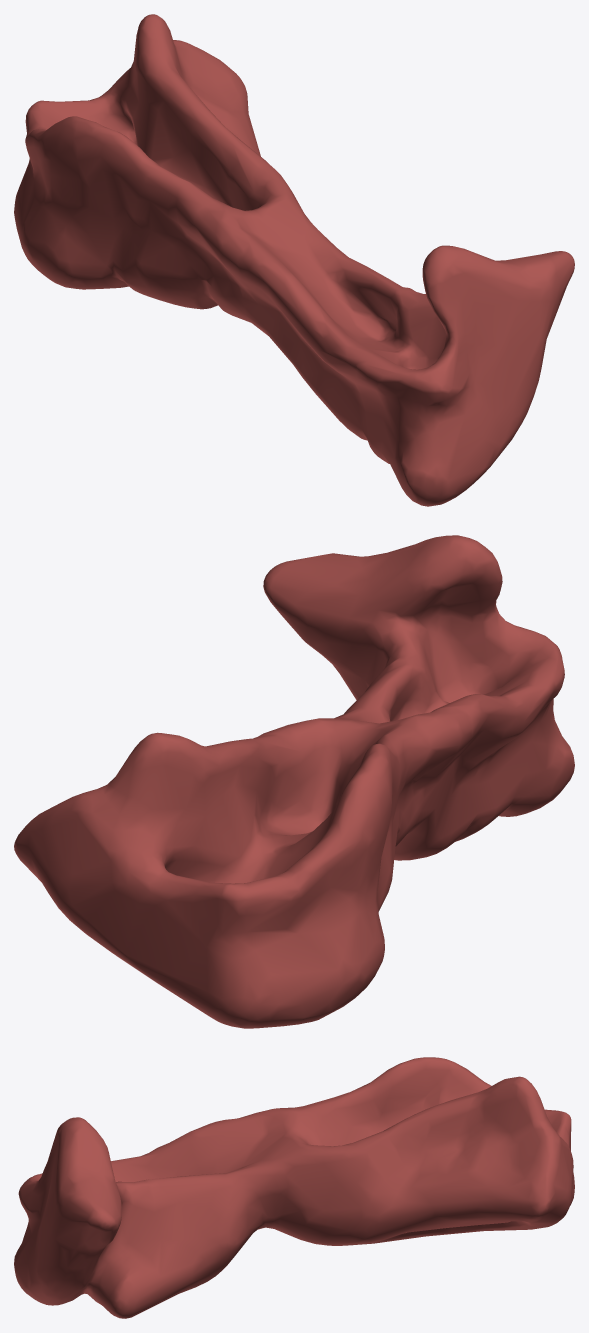
The model's file is FMA72689.glb.
The picture shows the model from 3 angles, top to bottom: view 1: azimuth 30°, elevation 25°; view 2: azimuth 150°, elevation 25°; view 3: azimuth 270°, elevation 25°; orthographic projection. The views are drawn at different scales.
Visible parts, largest first — view 1: FMA72689; view 2: FMA72689; view 3: FMA72689.
Boxes of the visible parts, x1=… form: FMA72689: x1=14, y1=14, x2=574, y2=506; FMA72689: x1=14, y1=535, x2=574, y2=1028; FMA72689: x1=14, y1=1057, x2=574, y2=1318.
Size of the model in its own units: 0.0303 by 0.0254 by 0.0577.
